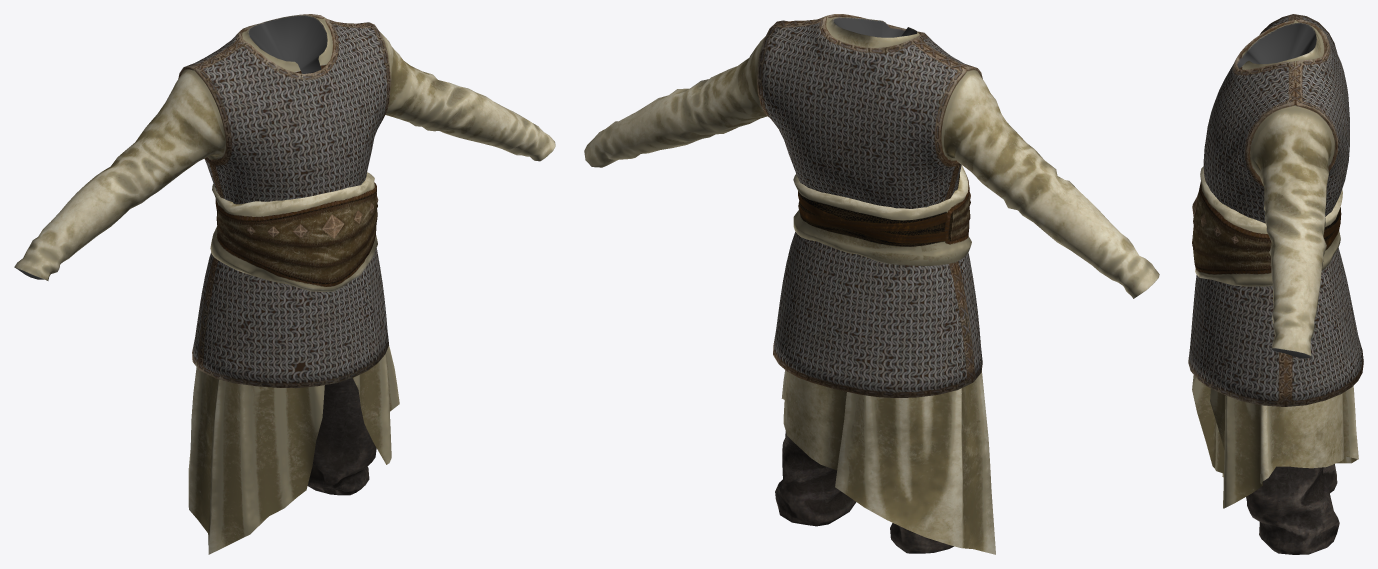
Rendered from dunland_caerdh_chainmail_light_b.fbx.
3 renders of one model, left to right at view 1: azimuth 30°, elevation 25°; view 2: azimuth 150°, elevation 25°; view 3: azimuth 270°, elevation 25°, orthographic. The views are drawn at different scales.
Visible parts, largest first — view 1: dunland_caerdh_chainmail_light_b, dunland_caerdh_chainmail_light_b.skirt, dunland_caerdh_chainmail_light_b.beltb; view 2: dunland_caerdh_chainmail_light_b, dunland_caerdh_chainmail_light_b.skirt, dunland_caerdh_chainmail_light_b.beltb; view 3: dunland_caerdh_chainmail_light_b, dunland_caerdh_chainmail_light_b.skirt, dunland_caerdh_chainmail_light_b.beltb.
Boxes of the visible parts, x1,y1,x2,y2 form: dunland_caerdh_chainmail_light_b: (14,14,555,495); dunland_caerdh_chainmail_light_b.skirt: (188,346,399,554); dunland_caerdh_chainmail_light_b.beltb: (210,172,378,291); dunland_caerdh_chainmail_light_b: (584,14,1159,553); dunland_caerdh_chainmail_light_b.skirt: (781,355,995,554); dunland_caerdh_chainmail_light_b.beltb: (793,165,971,265); dunland_caerdh_chainmail_light_b: (1188,14,1363,554); dunland_caerdh_chainmail_light_b.skirt: (1192,375,1358,508); dunland_caerdh_chainmail_light_b.beltb: (1192,166,1342,286).
Size of the model in its own units: 1.38 by 0.3872 by 1.21.
Materials: 3 (3 with a texture image).
